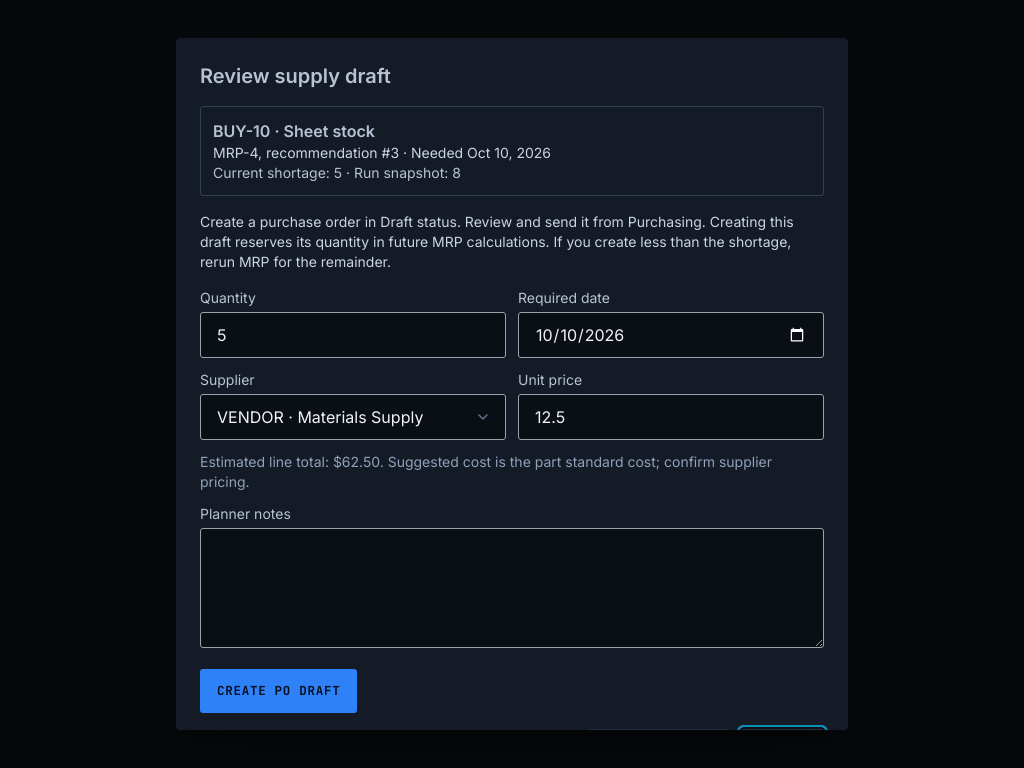
Test: uncertain response retries exact key and payload with fields retained
Click the button "Create PO draft" at {"x": 279, "y": 691}, box [200,669,358,713]
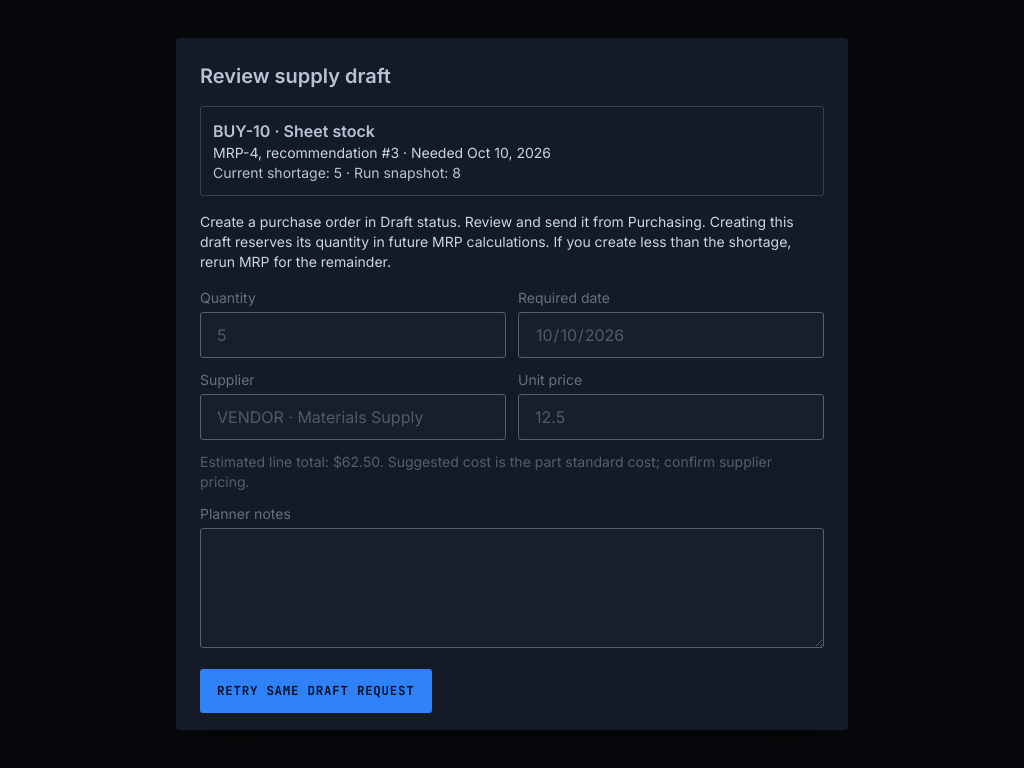
Check: the number field labelled "Quantity" is disabled, box [200,312,506,358]
Check: the button "Reload review" is not shown
Click the button "Retry same draft request" at {"x": 316, "y": 691}, box [200,669,432,713]
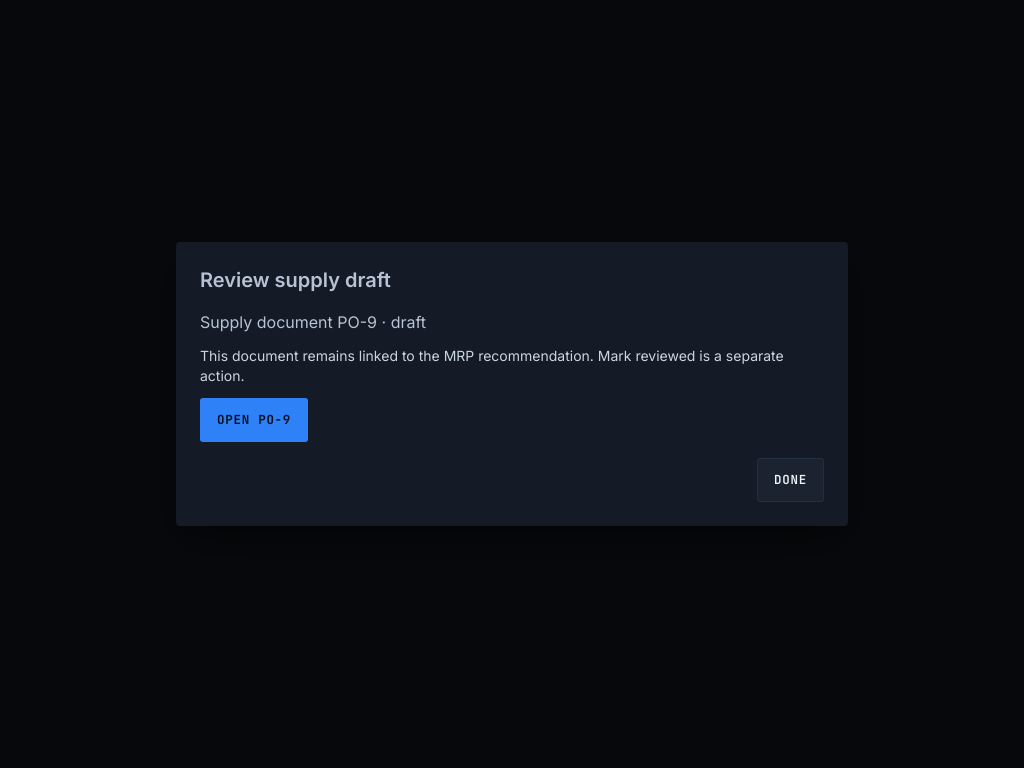
Check: the link "Open PO-9" is shown, box [200,398,308,442]
